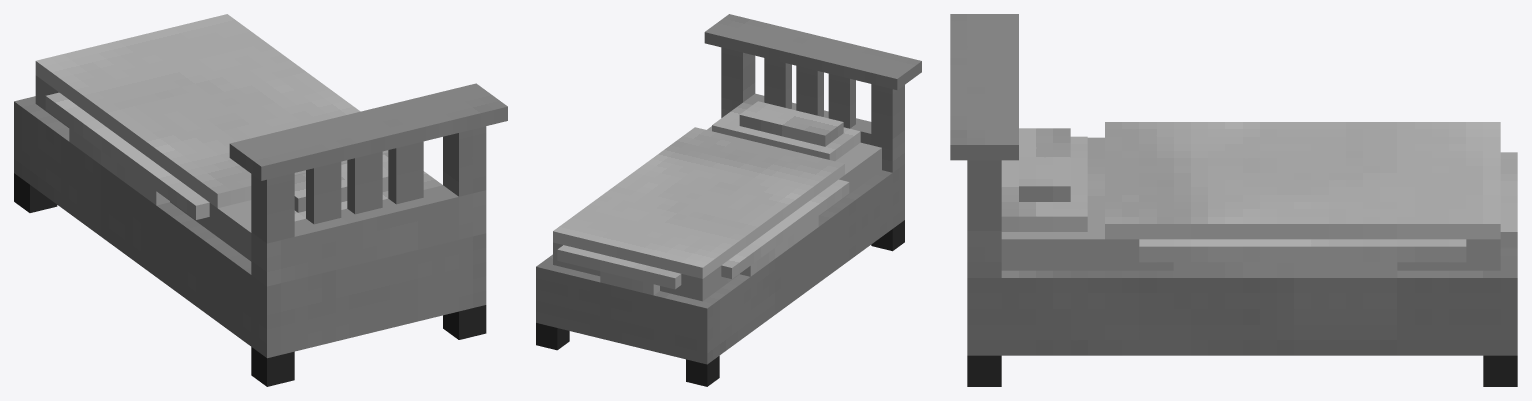
Rendered from single_bed.gltf.
The picture shows the model from 3 angles, left to right: view 1: azimuth 30°, elevation 25°; view 2: azimuth 150°, elevation 25°; view 3: azimuth 270°, elevation 25°; orthographic projection. The views are drawn at different scales.
Visible parts, largest first — view 1: wood, duvet_main, base, top, slat (×3), side (×2), pillar (×2), matress, cube (×2), ur, ul, dr; view 2: duvet_main, wood, top, side (×4), cube (×2), slat (×3), pillar (×2), matress, base, dr, dl, ur; view 3: duvet_main, wood, side (×3), top, matress, cube (×2), pillar, base, ul, dl.
Part boxes in pixels (x1,y1,x2,y2): wood: (14, 96, 486, 358); duvet_main: (35, 14, 388, 208); base: (251, 185, 486, 286); top: (229, 83, 507, 180); slat (×3): (306, 141, 423, 224); side (×2): (45, 92, 209, 219); pillar (×2): (251, 126, 486, 243); matress: (35, 75, 251, 261); cube (×2): (294, 154, 442, 221); ur: (251, 347, 294, 386); ul: (443, 305, 486, 339); dr: (14, 173, 57, 212); duvet_main: (553, 127, 844, 278); wood: (536, 164, 904, 364); top: (704, 14, 921, 89); side (×4): (557, 179, 849, 295); cube (×2): (712, 101, 860, 161); slat (×3): (764, 58, 855, 128); pillar (×2): (721, 47, 904, 138); matress: (553, 126, 881, 301); base: (721, 93, 904, 172); dr: (686, 356, 719, 386); dl: (536, 323, 569, 350); ur: (871, 220, 904, 251); duvet_main: (1105, 122, 1500, 239); wood: (967, 247, 1517, 355); side (×3): (1139, 152, 1517, 277); top: (950, 14, 1018, 160); matress: (1001, 137, 1500, 270); cube (×2): (1001, 128, 1087, 231); pillar: (967, 160, 1001, 230); base: (967, 231, 1001, 277); ul: (967, 355, 1001, 386); dl: (1483, 355, 1517, 386).
Size of the model in its own units: 1.12 by 1 by 2.06.
9 materials, 9 textured.
